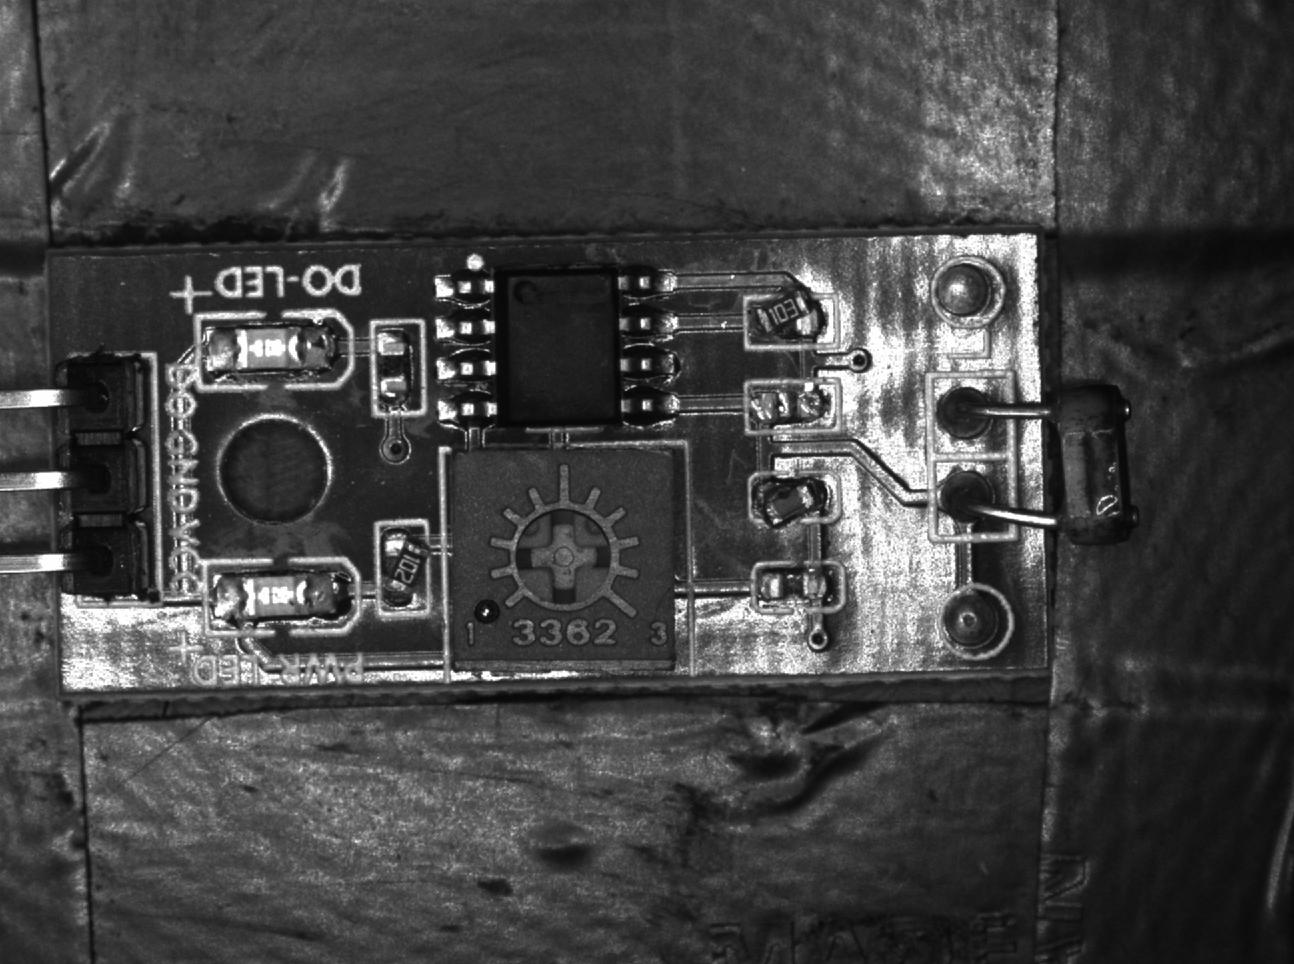lifted: (747, 289, 842, 347), (373, 521, 430, 614), (750, 475, 843, 531)
miss: (748, 557, 850, 614), (369, 320, 426, 414), (744, 382, 841, 432)
